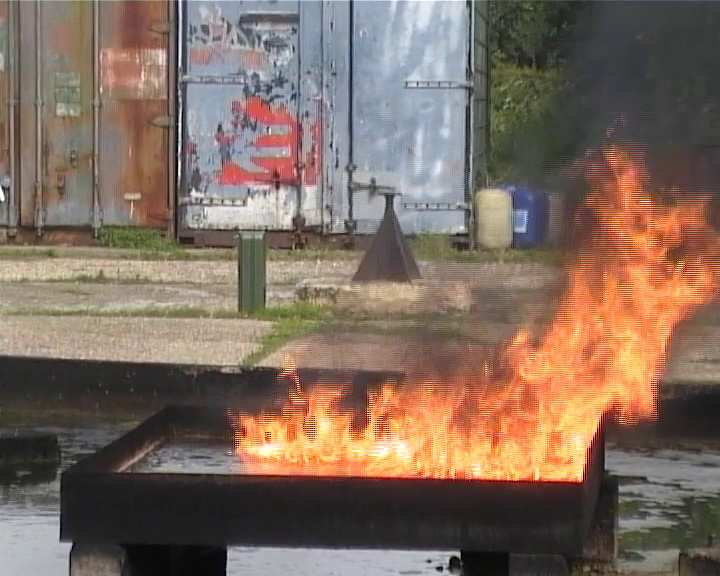fire: (231, 151, 710, 479)
